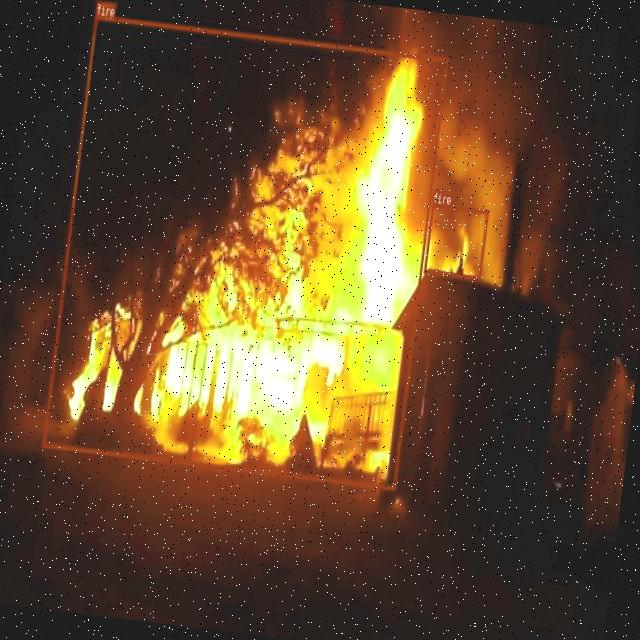fire: (42, 15, 447, 489), (423, 202, 488, 280)
